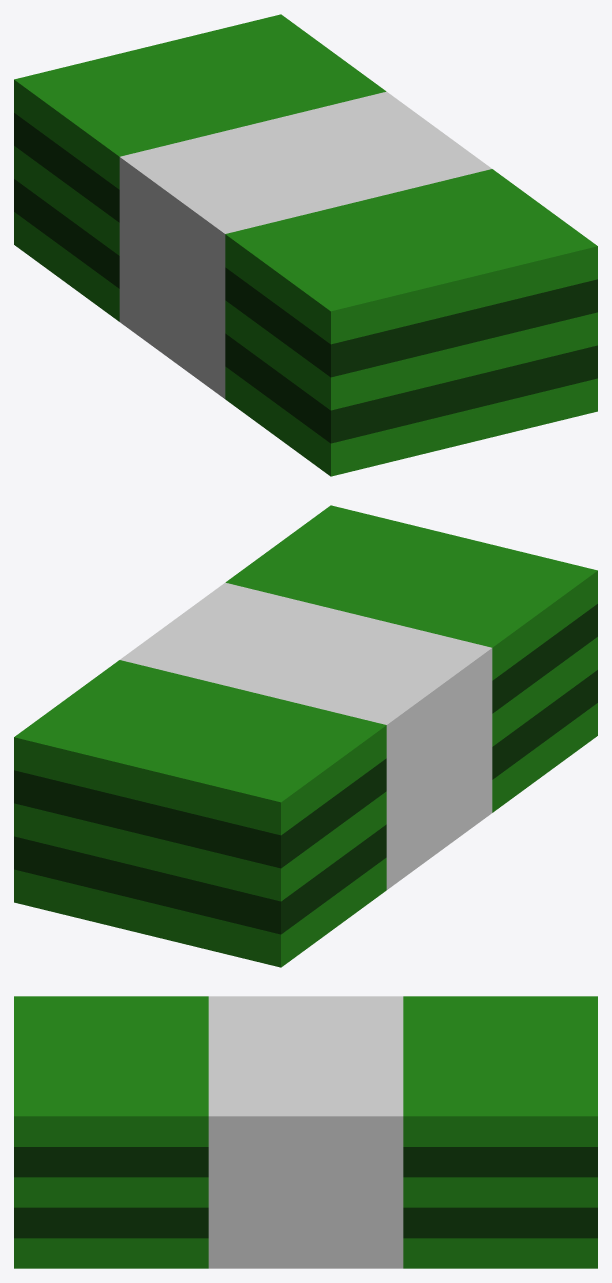
The picture shows the model from 3 angles, top to bottom: view 1: azimuth 30°, elevation 25°; view 2: azimuth 150°, elevation 25°; view 3: azimuth 270°, elevation 25°; orthographic projection. The views are drawn at different scales.
Visible parts, largest first — view 1: HC1; view 2: HC1; view 3: HC1.
Boxes of the visible parts, x1,y1,x2,y2 form: HC1: (14, 14, 597, 476); HC1: (14, 505, 597, 967); HC1: (14, 996, 597, 1268).
Bounding box in the file's own units: 1.23 × 0.7271 × 2.53.
